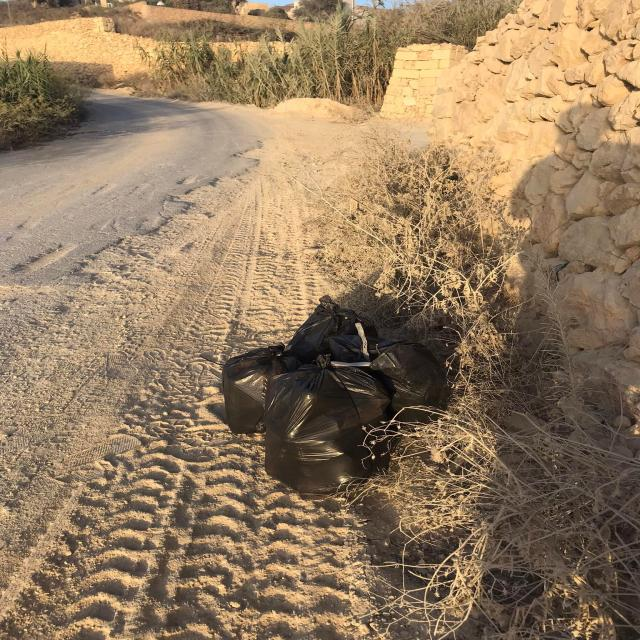Plastic bag - wrapper: (221, 295, 448, 495)
